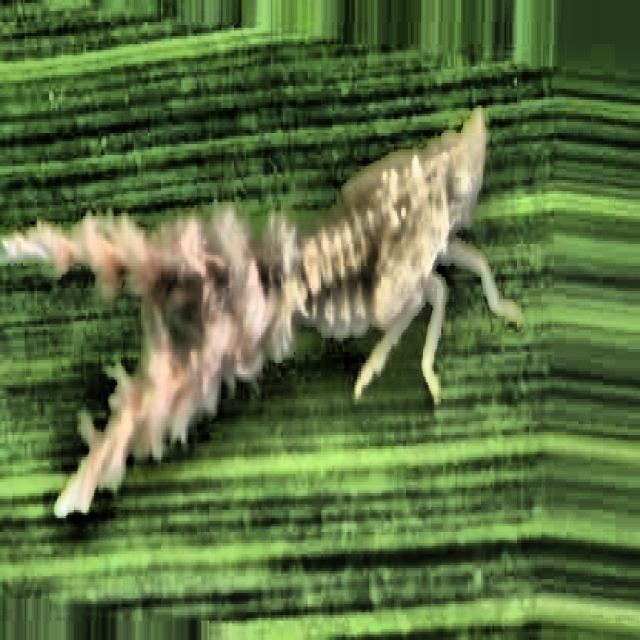Pyrilla-perpusilla: (16, 89, 537, 442)
